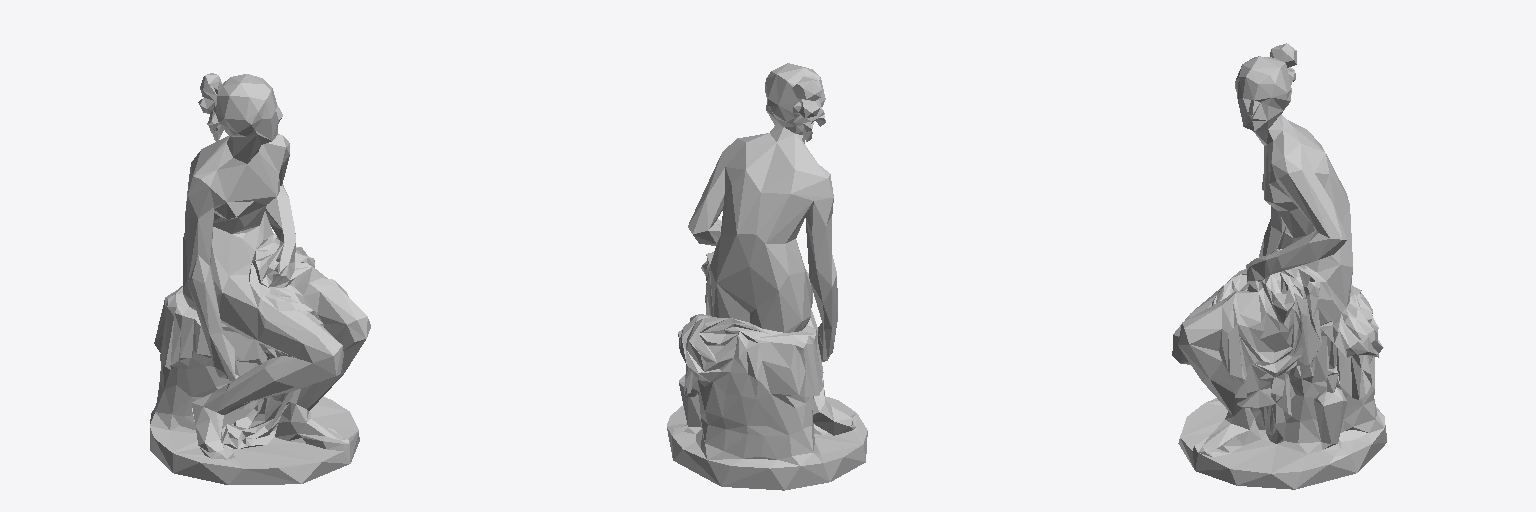
The picture shows the model from 3 angles: view 1: azimuth 30°, elevation 25°; view 2: azimuth 150°, elevation 25°; view 3: azimuth 270°, elevation 25°; orthographic projection.
Parts seen in each view (by area): view 1: nymph1_fixed; view 2: nymph1_fixed; view 3: nymph1_fixed.
Boxes of the visible parts, x1,y1,x2,y2 form: nymph1_fixed: [150, 73, 370, 484]; nymph1_fixed: [667, 63, 867, 490]; nymph1_fixed: [1172, 43, 1386, 489].
Size of the model in its own units: 1.74 by 3.5 by 1.8.